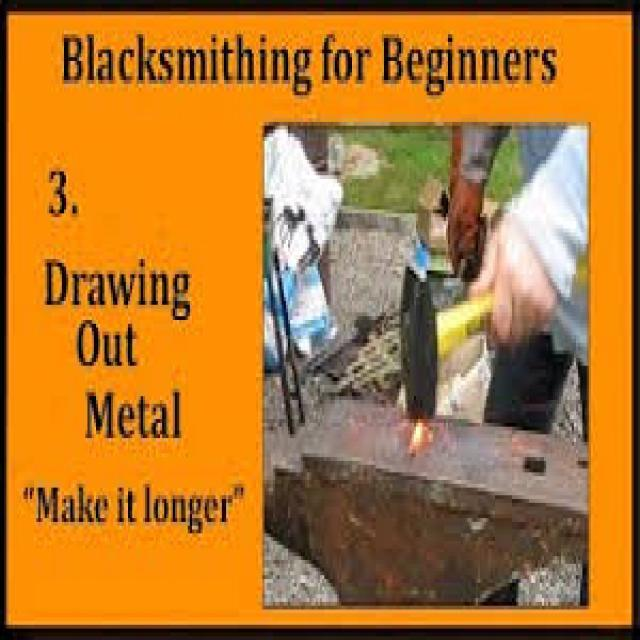hammer: (390, 240, 602, 430)
